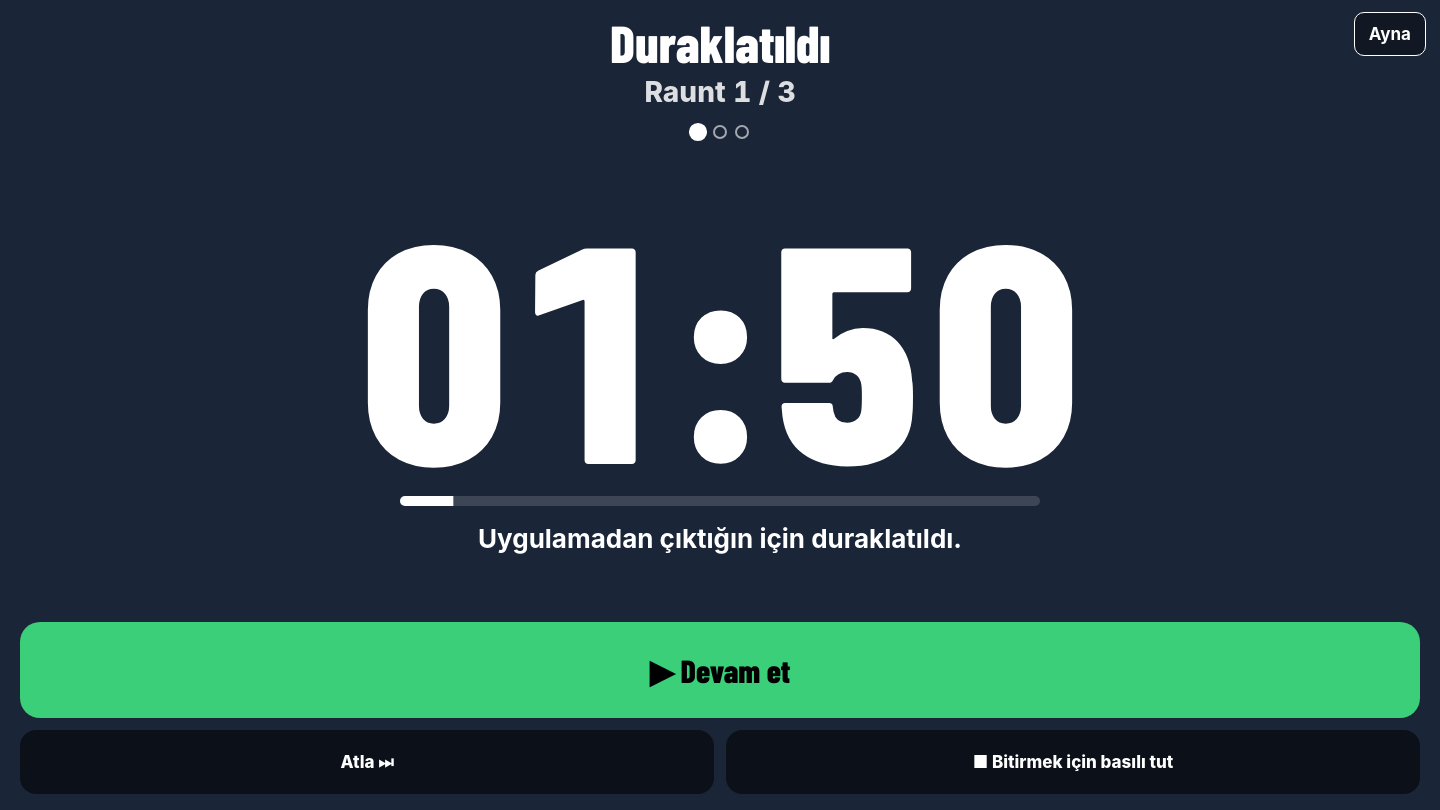
Test: Aktif antrenman ekranı › uygulamadan çıkınca otomatik duraklar ve nedenini söyler
The width and height of the screenshot is (1440, 810).
Expected: the text "Duraklatıldı" is shown, [610,11,830,73]
Expected: the text "Uygulamadan çıktığın için duraklatıldı." is shown, [478,520,962,558]
Devam: önce 3-2-1 (eldivenle telefona yürüyüp dönme payı)
Click the button "▶︎ Devam et" at (720, 670), box [20,622,1420,718]
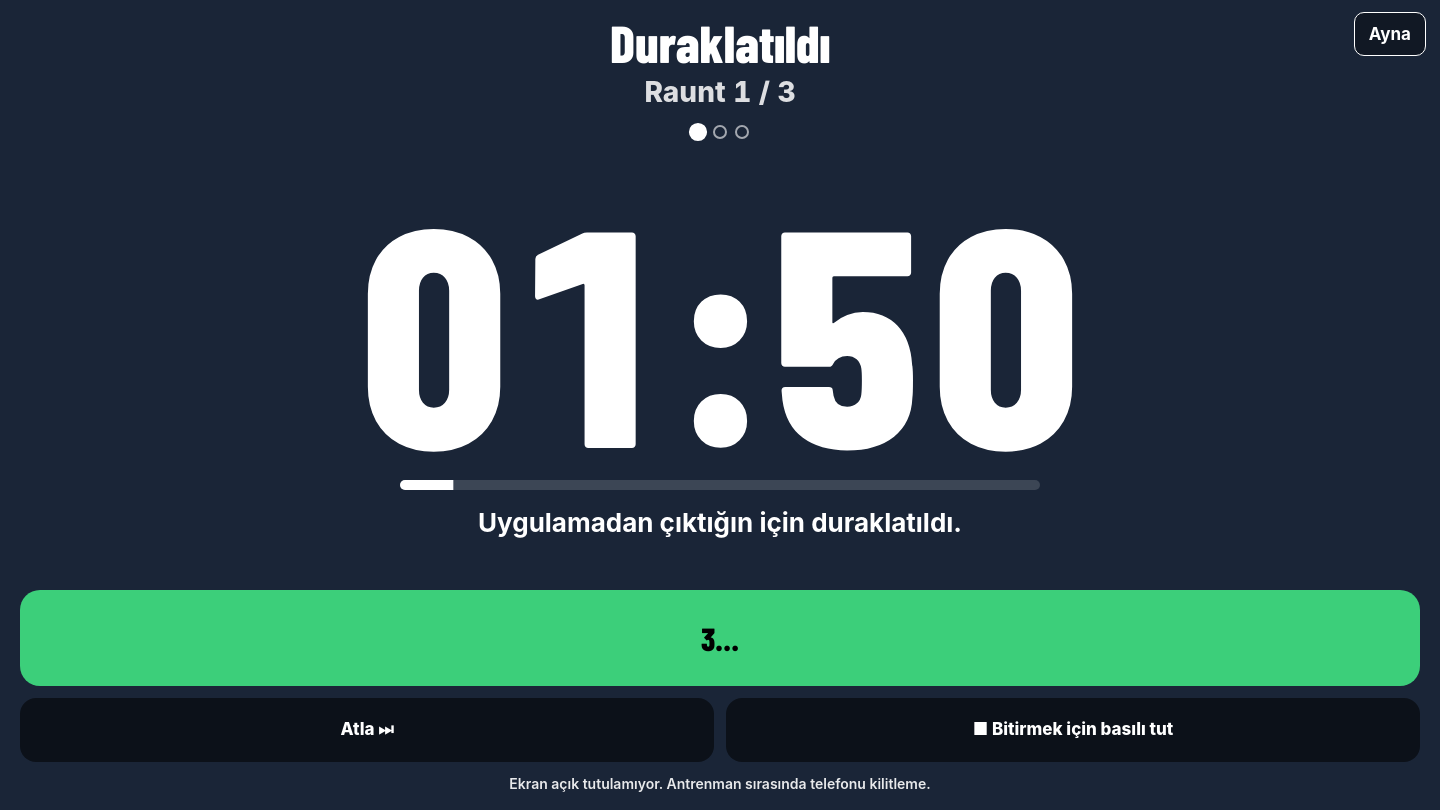
Now the button "3…" is shown, box [20,590,1420,686]
